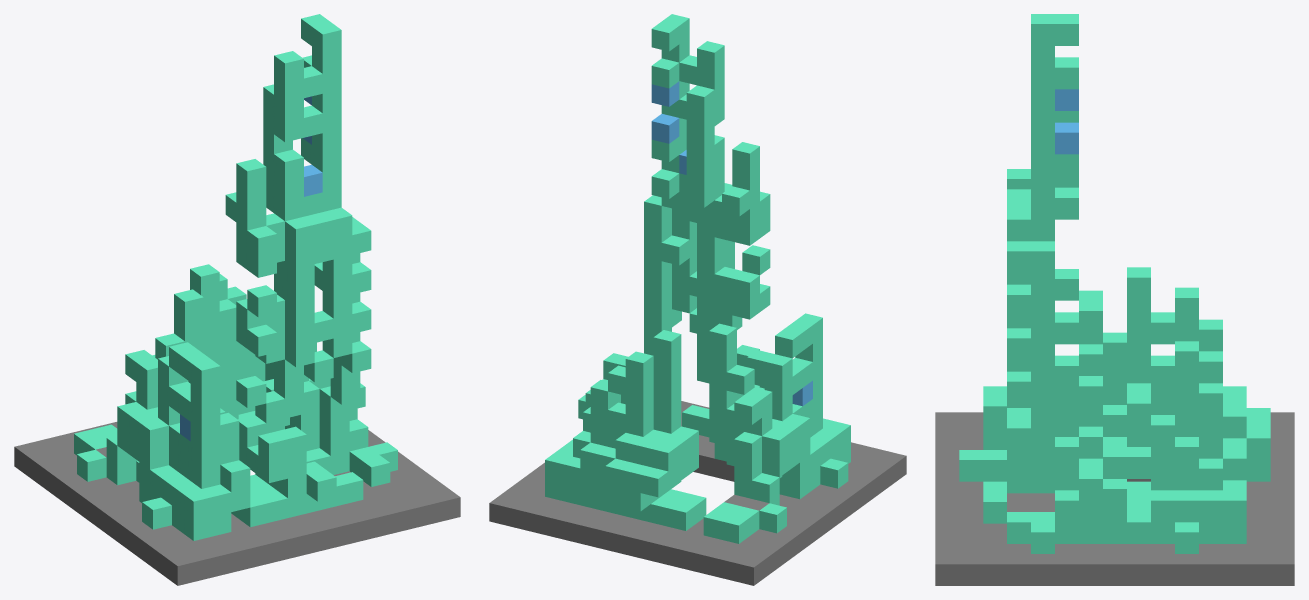
Rendered from building_2_collapsed.gltf.
3 renders of one model, left to right at view 1: azimuth 30°, elevation 25°; view 2: azimuth 150°, elevation 25°; view 3: azimuth 270°, elevation 25°, orthographic. The views are drawn at different scales.
Visible parts, largest first — view 1: Layer.1; view 2: Layer.1; view 3: Layer.1.
Part boxes in pixels (box(x1,y1,x2,y2)): Layer.1: box(14, 14, 460, 585); Layer.1: box(489, 14, 906, 585); Layer.1: box(935, 14, 1294, 585).
Bounding box in the file's own units: 15 × 24 × 15.
Materials: 1 (1 with a texture image).
